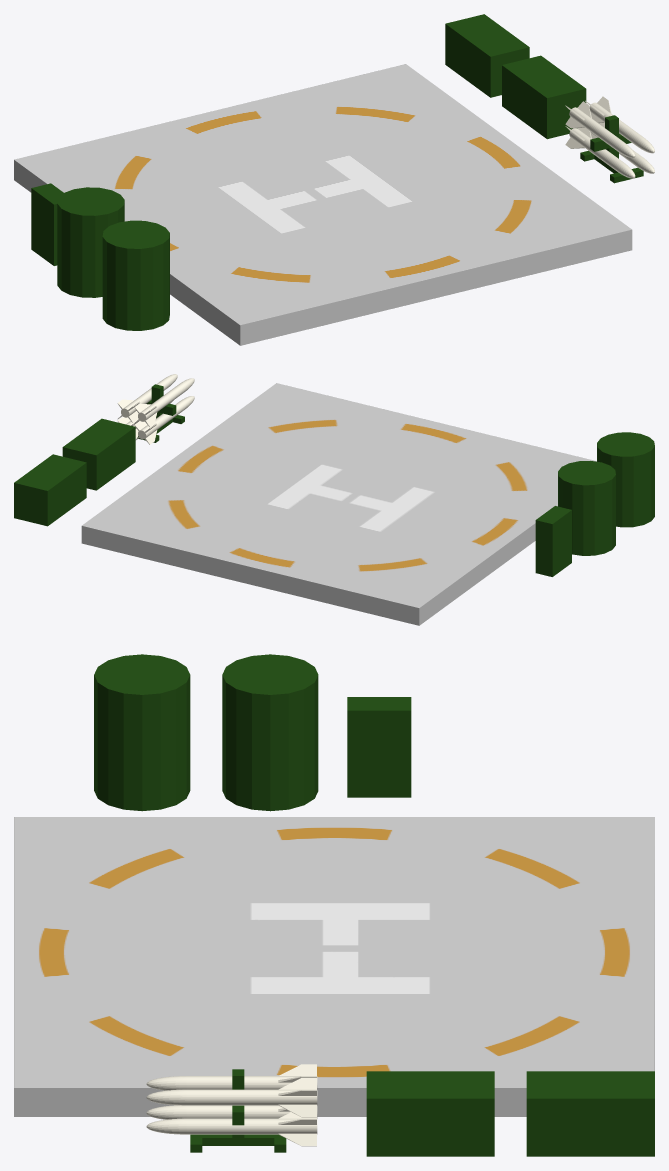
Rendered from landing_port_supply_station.tj7Dqy7p.glb.
3 renders of one model, top to bottom at view 1: azimuth 30°, elevation 25°; view 2: azimuth 150°, elevation 25°; view 3: azimuth 270°, elevation 25°, orthographic. The views are drawn at different scales.
Parts seen in each view (by area): view 1: base, Zylinder.001, Zylinder, Würfel.001, Würfel.002, Kugel (×3), Würfel, Cube; view 2: base, Zylinder, Zylinder.001, Würfel.002, Würfel.001, Würfel, Kugel (×3), Cube; view 3: base, Zylinder, Zylinder.001, Würfel.001, Würfel.002, Kugel (×4), Würfel, Cube.
Part boxes in pixels (<box>): base: <box>14,64,632,345</box>; Zylinder.001: <box>102,220,169,330</box>; Zylinder: <box>57,187,124,297</box>; Würfel.001: <box>502,55,586,139</box>; Würfel.002: <box>445,14,529,97</box>; Kugel (×3): <box>569,102,654,178</box>; Würfel: <box>31,183,63,265</box>; Cube: <box>580,115,643,183</box>; base: <box>81,383,596,625</box>; Zylinder: <box>558,461,615,555</box>; Zylinder.001: <box>597,432,654,527</box>; Würfel.002: <box>14,454,86,526</box>; Würfel.001: <box>62,418,135,490</box>; Würfel: <box>535,506,571,576</box>; Kugel (×3): <box>121,374,194,439</box>; Cube: <box>137,384,184,442</box>; base: <box>14,817,654,1116</box>; Zylinder: <box>222,654,318,811</box>; Zylinder.001: <box>94,654,190,811</box>; Würfel.001: <box>366,1071,494,1156</box>; Würfel.002: <box>526,1071,654,1156</box>; Kugel (×4): <box>146,1076,317,1134</box>; Würfel: <box>347,697,411,797</box>; Cube: <box>190,1069,286,1152</box>.
Bounding box in the file's own units: 1.43 × 0.225 × 1.
Materials: 4 (1 with a texture image).
